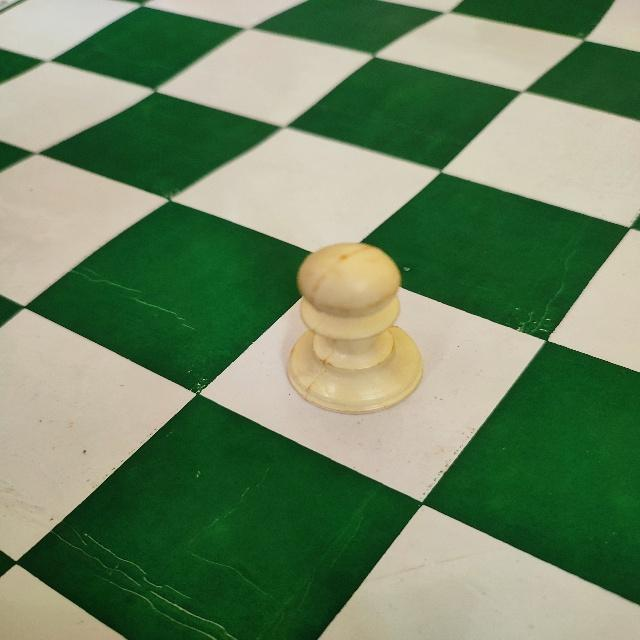Pawn: (284, 238, 424, 418)
